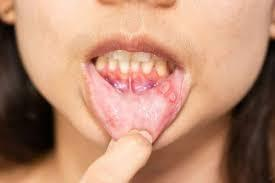Ulcer: (157, 81, 185, 107)
